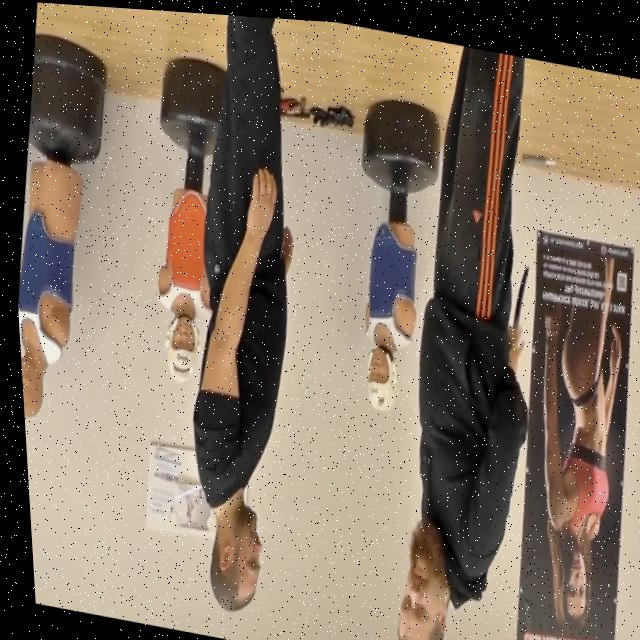knife: (506, 254, 529, 324)
